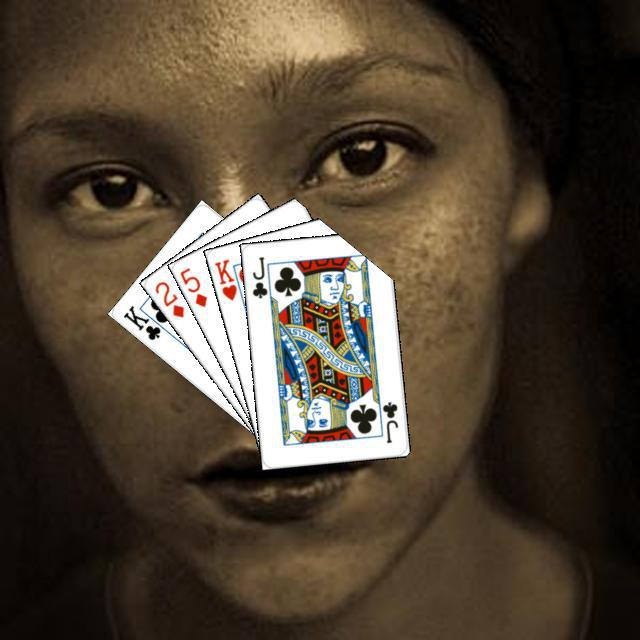2d: (150, 276, 186, 320)
5d: (175, 263, 209, 309)
Jc: (377, 397, 400, 445), (247, 252, 269, 300)
Kc: (118, 300, 171, 342)
Kh: (209, 254, 246, 304)
